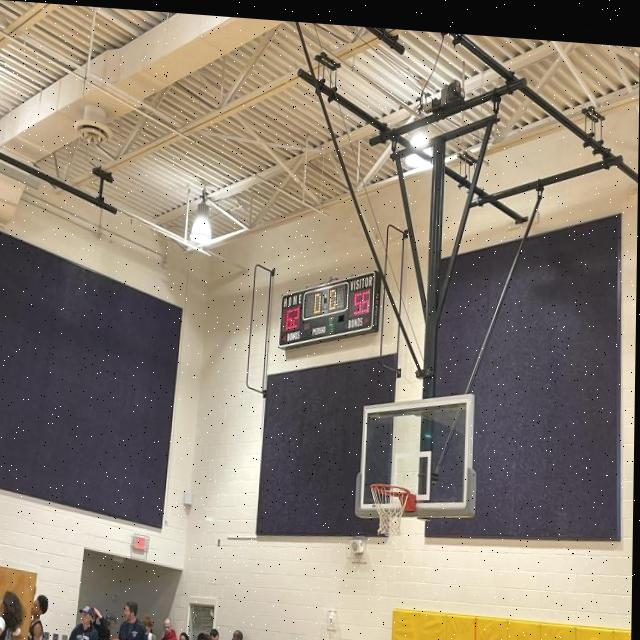hoop: (369, 483, 410, 538)
